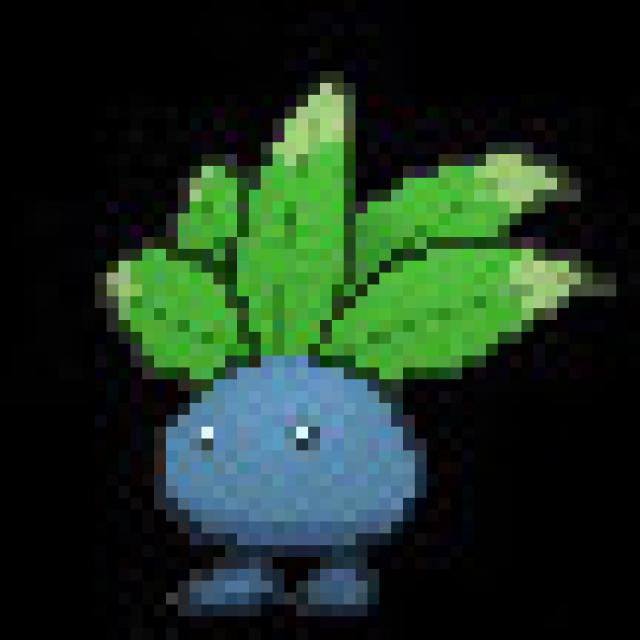Oddish: (130, 158, 465, 610)
